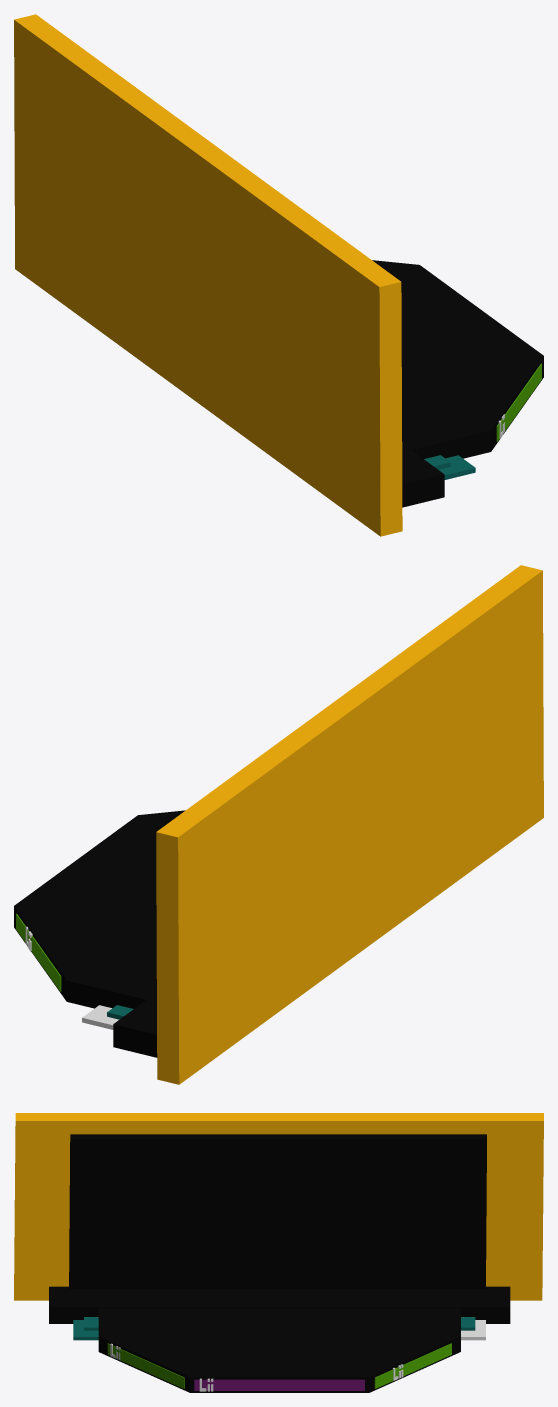
The model's file is stage.fbx.
3 views of the same model, one above another, from view 1: azimuth 30°, elevation 25°; view 2: azimuth 150°, elevation 25°; view 3: azimuth 270°, elevation 25° (orthographic). The views are drawn at different scales.
Parts seen in each view (by area): view 1: Cube.004, Cube, Cube.022; view 2: Cube.004, Cube, Cube.022; view 3: Cube.005, Cube, Cube.004, Cube.021, Cube.022, Cube.003, Cube.002, Cube.001.
Boxes of the visible parts, <box> form: Cube.004: <box>14,14,402,536</box>; Cube: <box>372,260,543,507</box>; Cube.022: <box>496,363,541,441</box>; Cube.004: <box>156,565,543,1084</box>; Cube: <box>14,810,185,1057</box>; Cube.022: <box>16,913,61,991</box>; Cube.005: <box>69,1134,486,1288</box>; Cube: <box>49,1286,510,1392</box>; Cube.004: <box>14,1113,543,1300</box>; Cube.021: <box>194,1379,364,1390</box>; Cube.022: <box>107,1343,451,1388</box>; Cube.003: <box>84,1317,475,1330</box>; Cube.002: <box>73,1320,98,1340</box>; Cube.001: <box>461,1320,485,1340</box>.
Size of the model in its own units: 2609 by 2163 by 5779.
